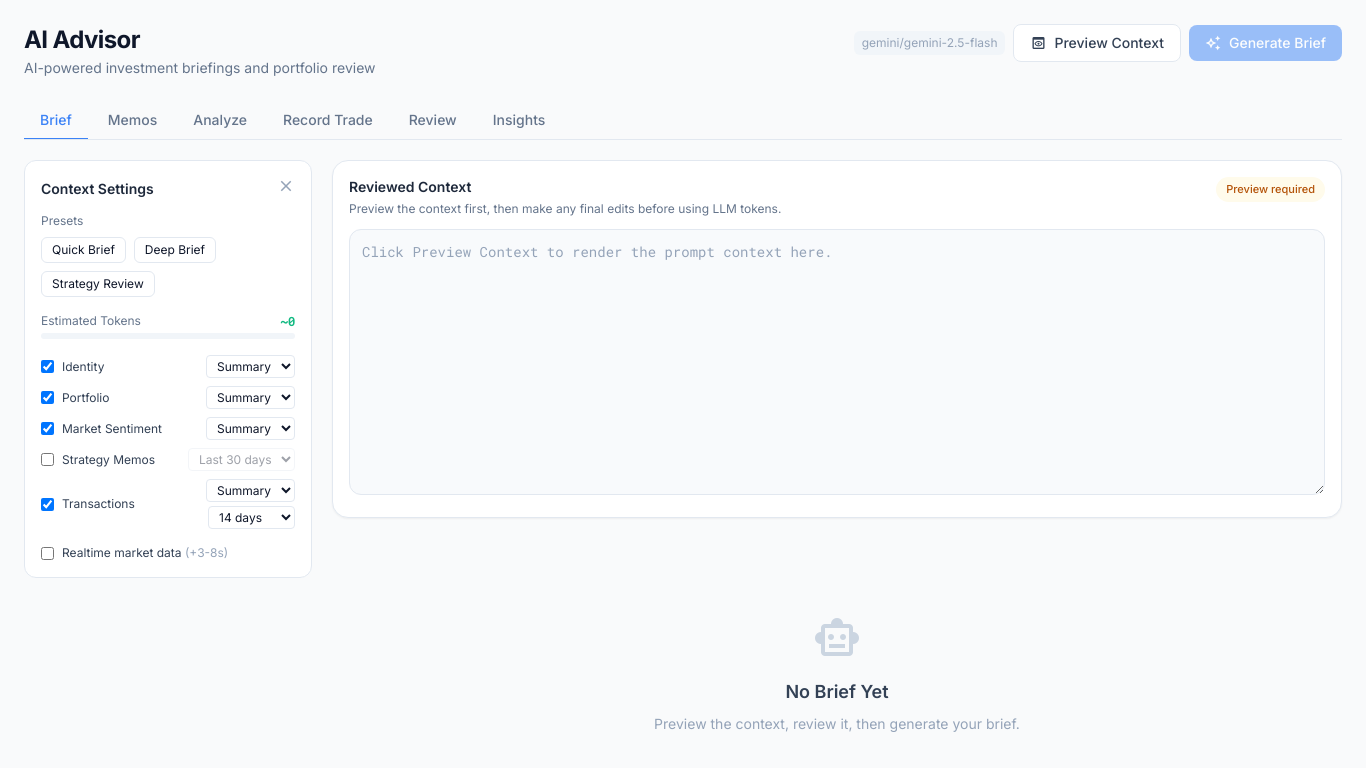
AI Advisor debug logs › renders insights without fetching fallback review debug data
Click the button "Insights" at (519, 121), box [477,102,561,140]
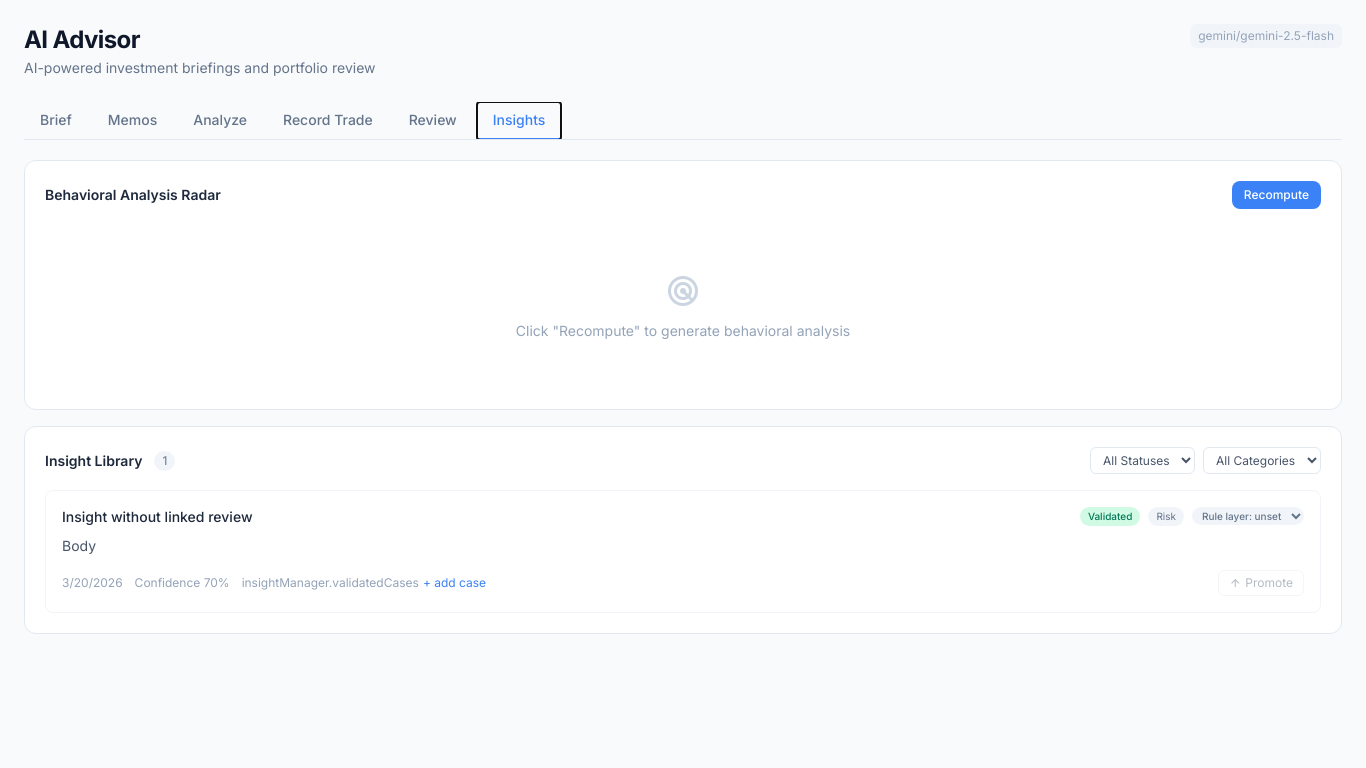
Now the heading "Insight Library" is shown, box [45,450,142,470]
Now the text "Insight without linked review" is shown, box [62,508,252,525]
